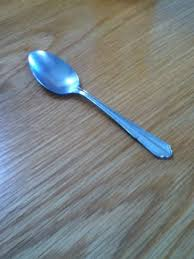spoon: (25, 44, 178, 173)
